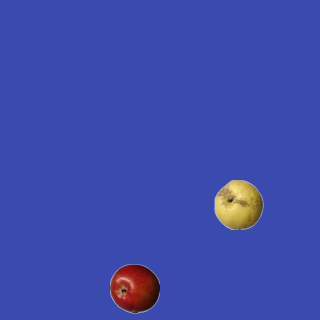Apple Braeburn: (109, 263, 159, 313)
Apple Golden 1: (213, 179, 263, 229)
